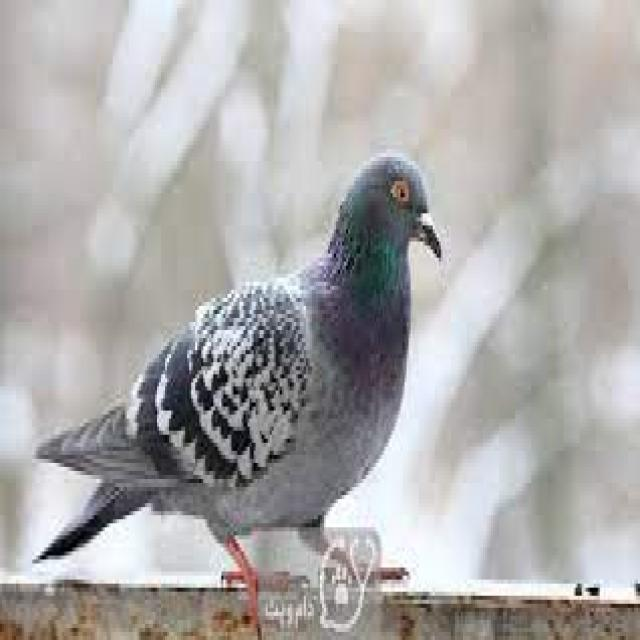bird: (39, 143, 445, 636)
